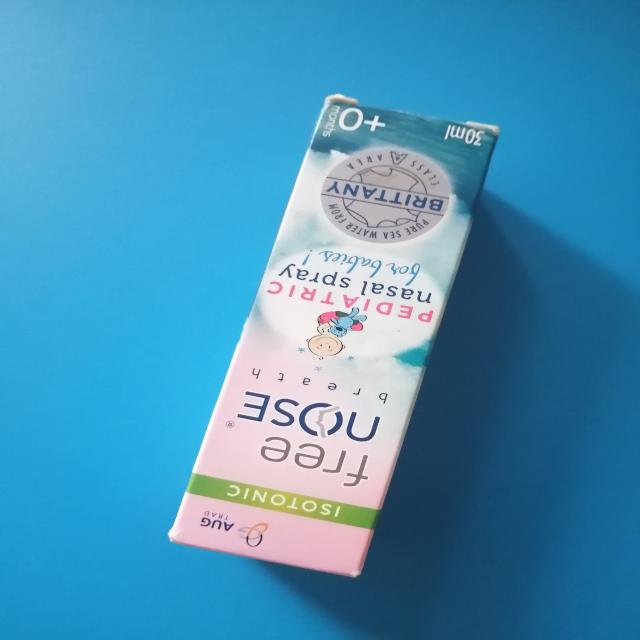Free Nose: (155, 91, 519, 595)
